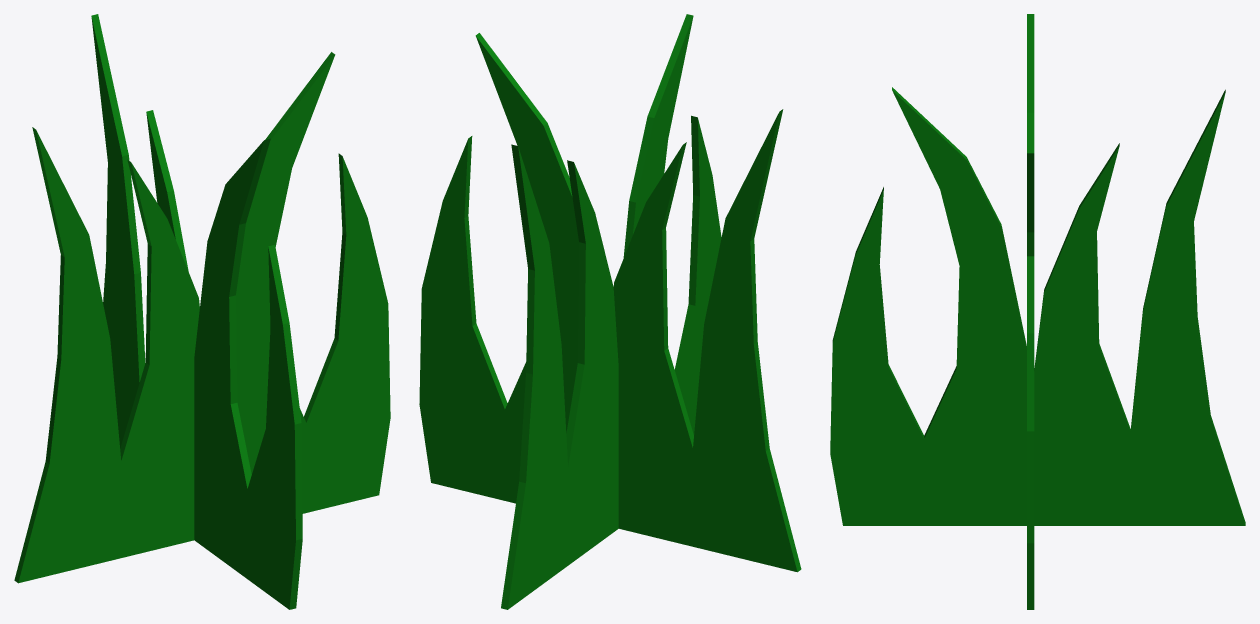
Rendered from grass.fbx.
3 renders of one model, left to right at view 1: azimuth 30°, elevation 25°; view 2: azimuth 150°, elevation 25°; view 3: azimuth 270°, elevation 25°, orthographic. The views are drawn at different scales.
Parts seen in each view (by area): view 1: Plane.000; view 2: Plane.000; view 3: Plane.000.
Part boxes in pixels (left/top/right/bottom): Plane.000: left=14, top=14, right=390, bottom=609; Plane.000: left=419, top=14, right=801, bottom=609; Plane.000: left=830, top=14, right=1245, bottom=609.
Size of the model in its own units: 142 by 142 by 165.
